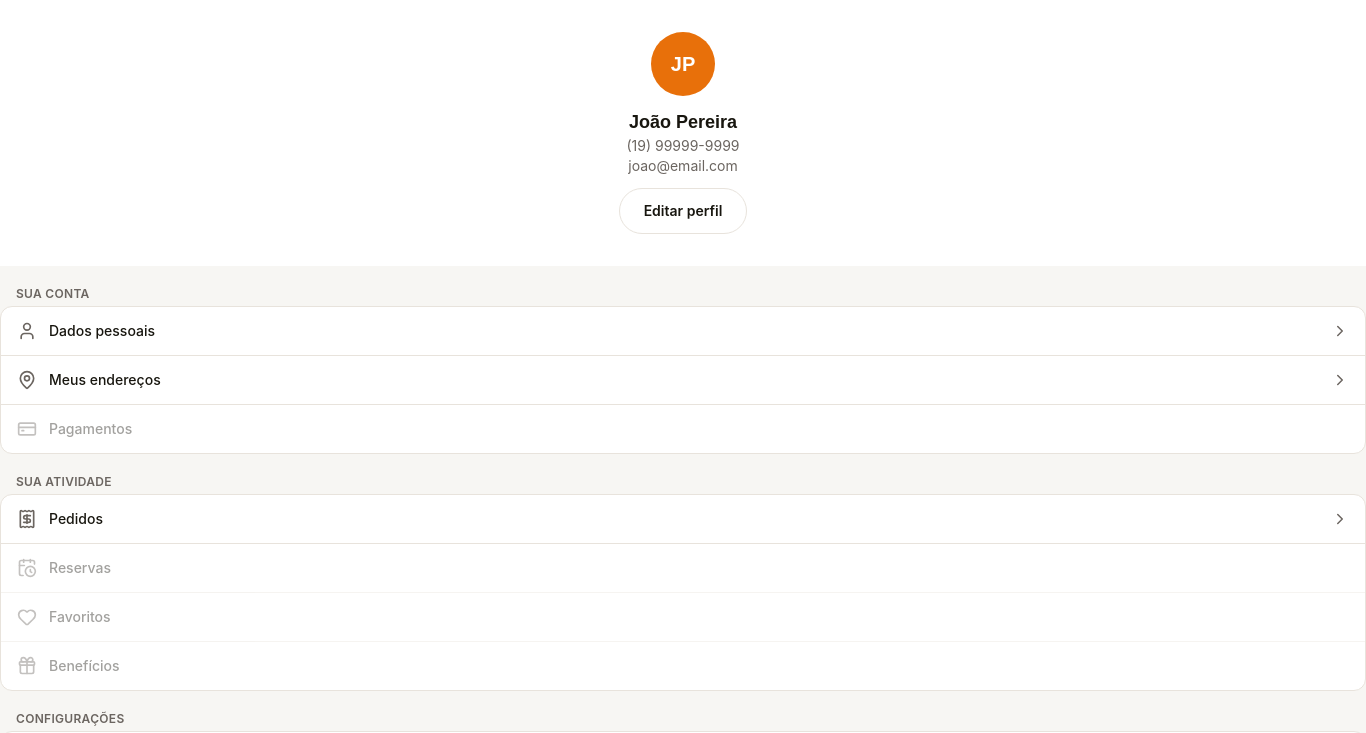
Test case: ProfileFullScreen — alteração refletida imediatamente › editar o nome atualiza a tela de perfil sem recarregar
The image size is (1366, 733).
Expected: the heading "João Pereira" is shown, [626, 108, 740, 136]
Click the button "Editar perfil" at (683, 211), box [619, 188, 747, 234]
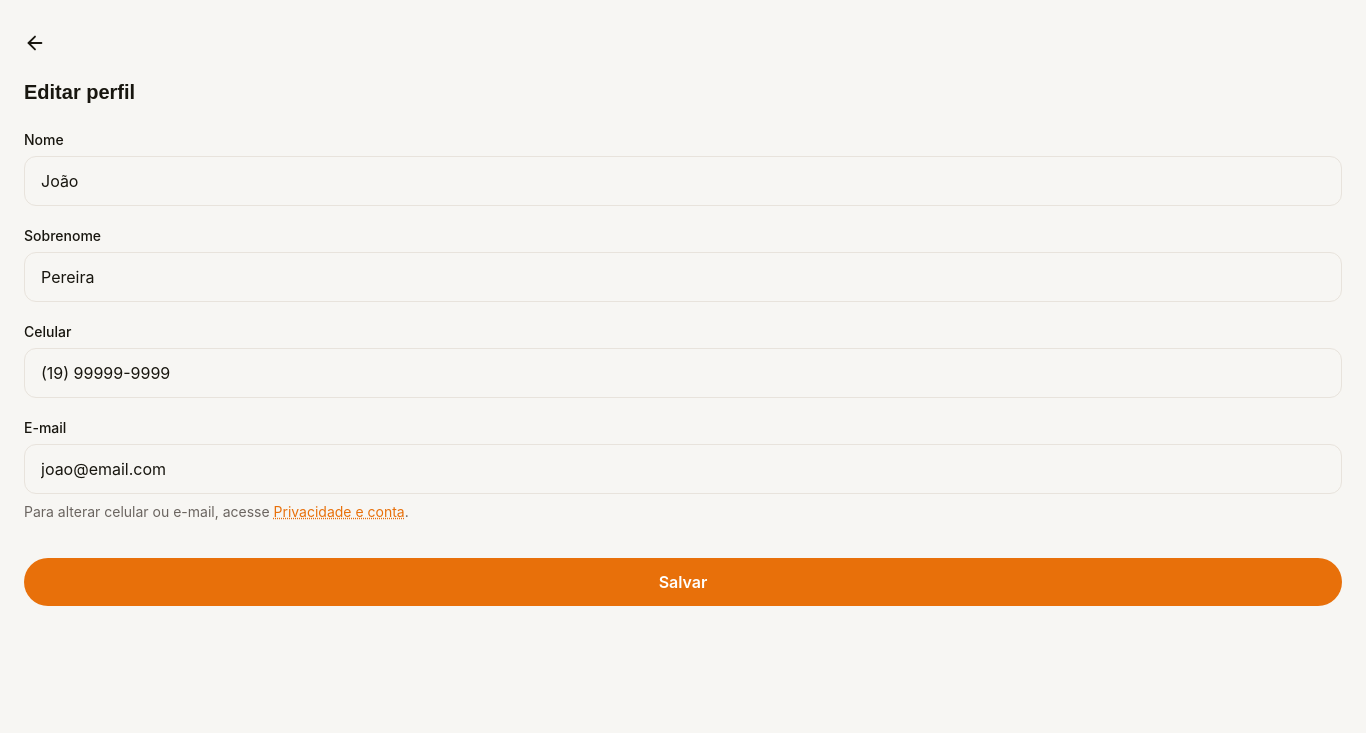
Replace the text in the field labelled "Nome" with "Lucas" at (683, 181), box [24, 156, 1342, 206]
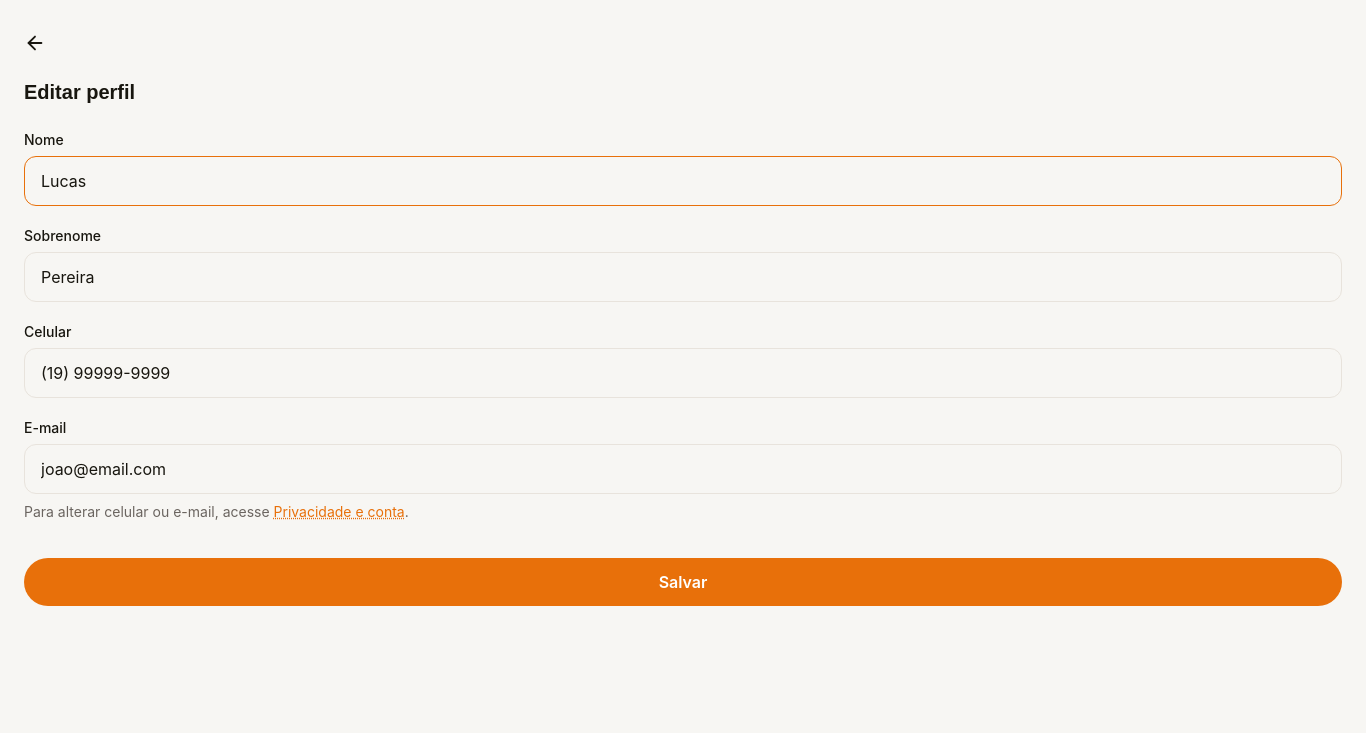
Replace the text in the field labelled "Sobrenome" with "Henrique" at (683, 277), box [24, 252, 1342, 302]
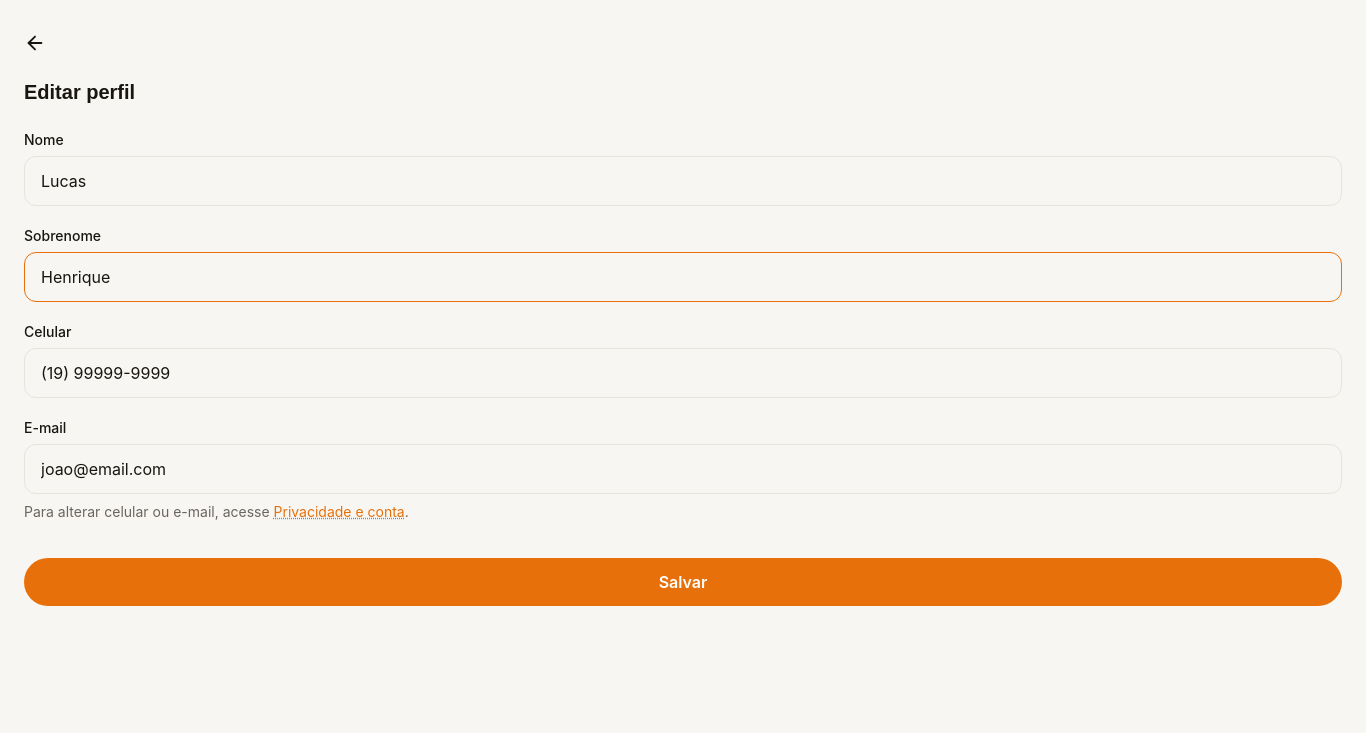
Click the button "Salvar" at (683, 582), box [24, 558, 1342, 606]
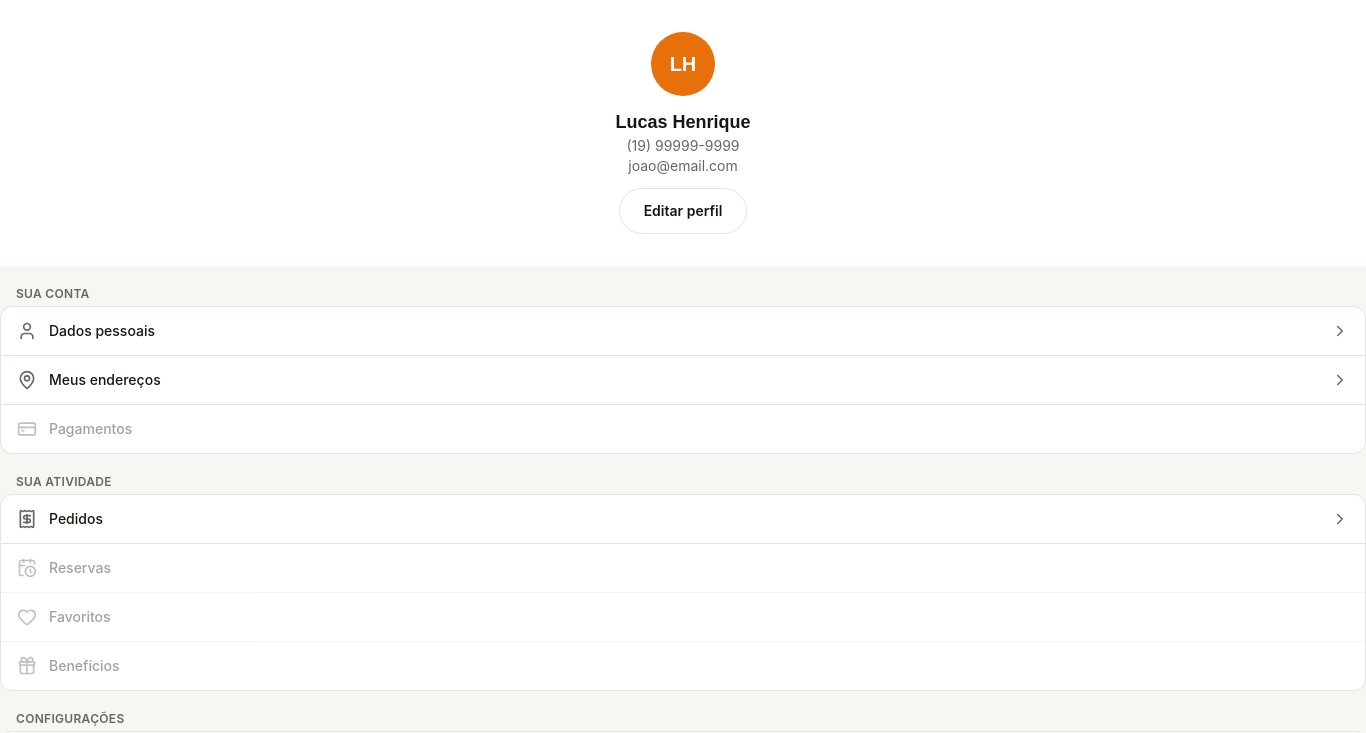
Expected: the heading "Lucas Henrique" is shown, [616, 108, 751, 136]
